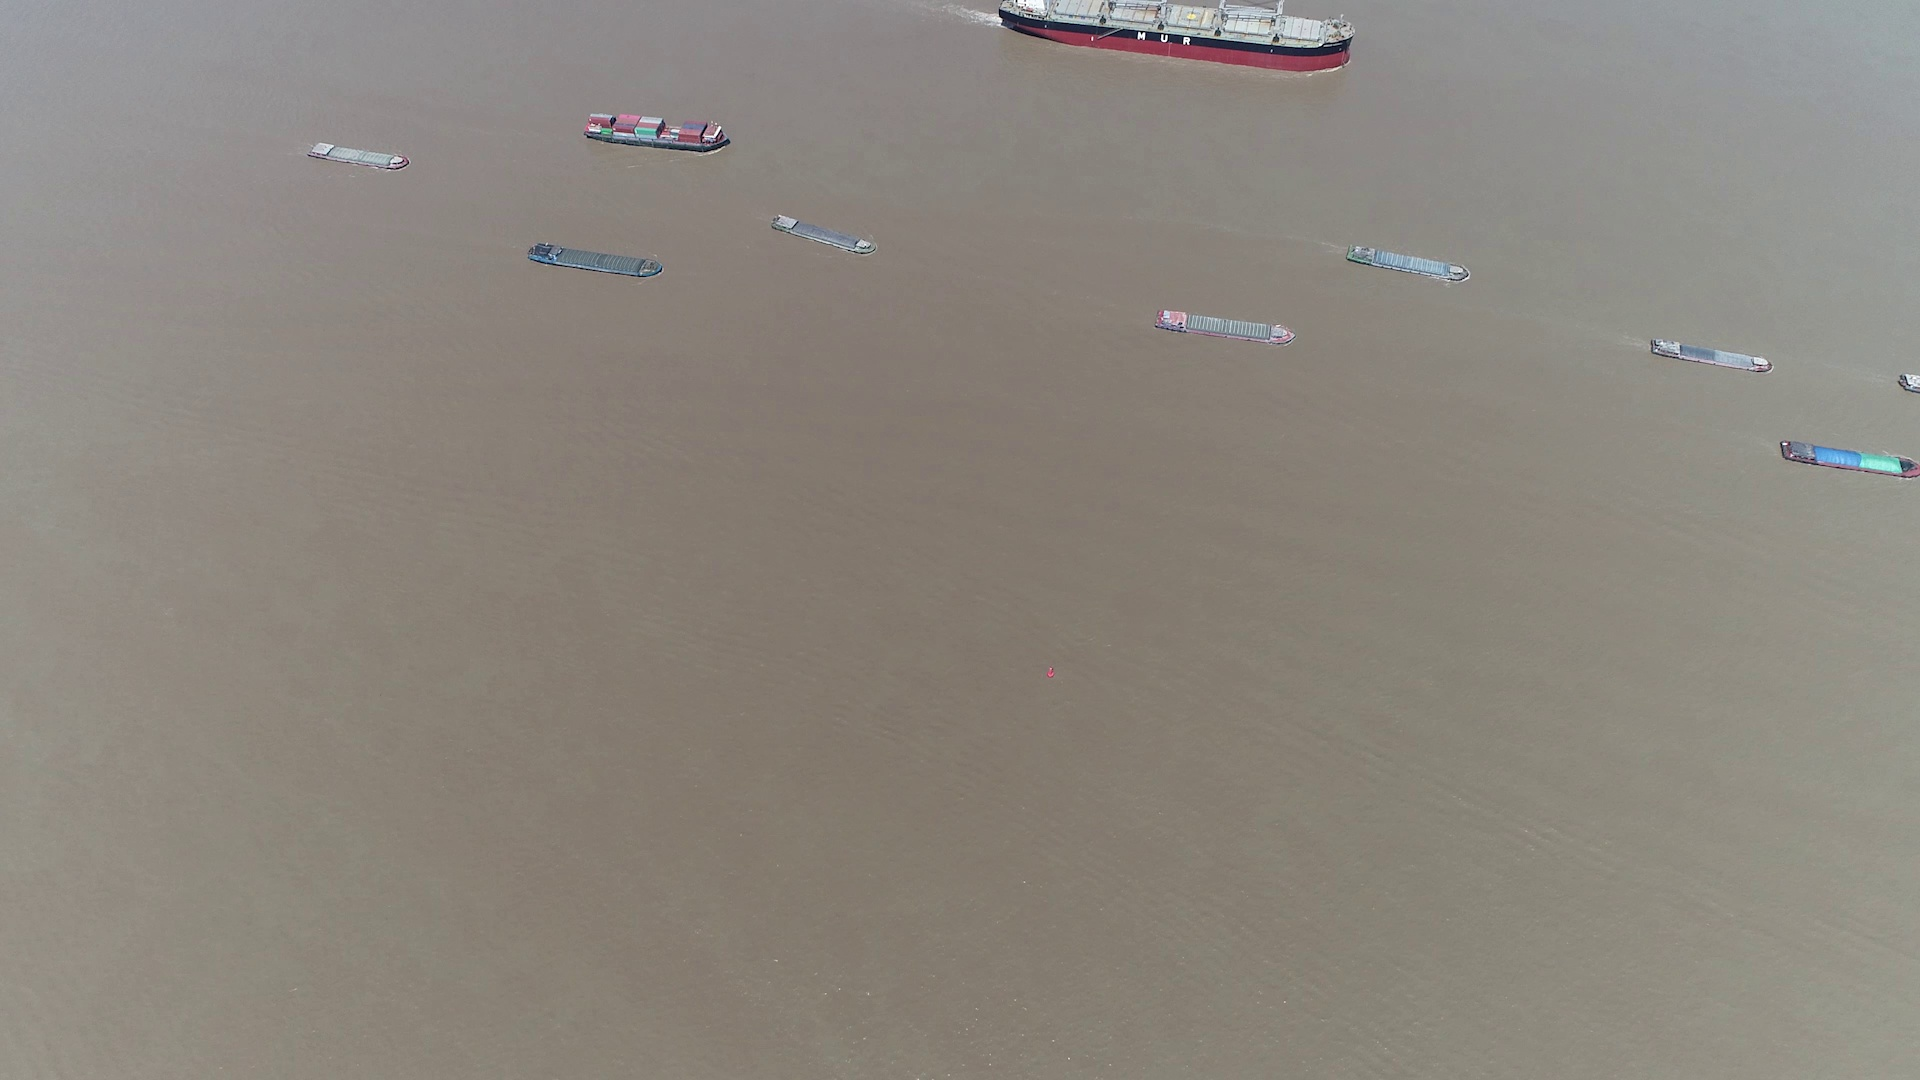ship: (998, 0, 1352, 69), (1780, 439, 1920, 480), (584, 113, 732, 152), (527, 241, 665, 281), (1156, 307, 1294, 345), (1346, 241, 1469, 284), (773, 214, 877, 257), (1648, 338, 1771, 373), (306, 140, 407, 170), (1899, 372, 1919, 396)
